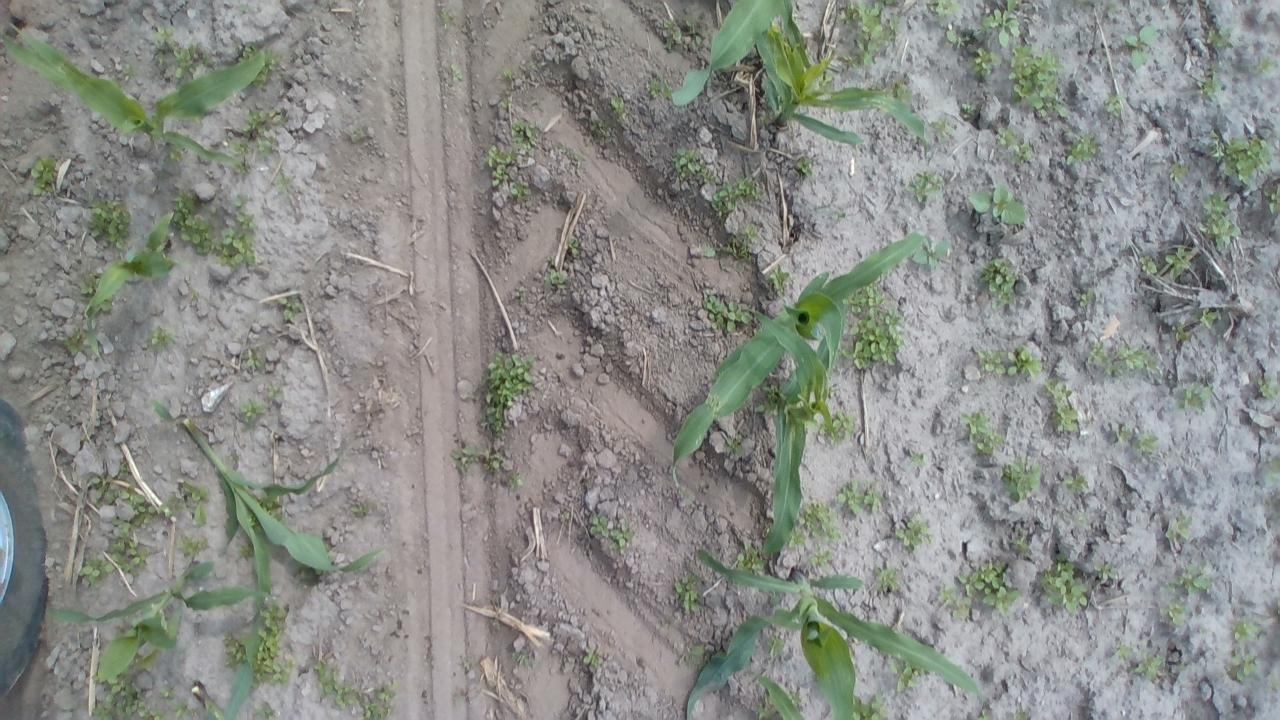Maize: (156, 396, 384, 714), (679, 224, 931, 495), (678, 555, 988, 720), (2, 30, 272, 170), (48, 558, 266, 694), (730, 6, 930, 152), (752, 312, 836, 552), (82, 204, 182, 360), (670, 0, 791, 112), (754, 673, 808, 720), (190, 677, 230, 720)
Weeds: (1008, 44, 1072, 119), (849, 284, 902, 368), (486, 351, 536, 432), (840, 3, 895, 67), (1210, 137, 1274, 186), (1040, 554, 1090, 614), (255, 606, 289, 686), (217, 200, 254, 269), (108, 520, 150, 578), (174, 194, 213, 256), (969, 184, 1027, 224), (88, 198, 131, 250), (94, 680, 150, 718), (1045, 378, 1081, 434), (703, 292, 752, 331), (962, 412, 1004, 457), (120, 480, 156, 530), (1202, 192, 1236, 244), (316, 664, 354, 709), (1001, 460, 1041, 502), (980, 257, 1016, 302), (1122, 26, 1156, 69), (1169, 562, 1214, 594), (984, 3, 1019, 44), (180, 481, 210, 526), (804, 502, 840, 537), (838, 483, 876, 516), (1002, 346, 1042, 377), (980, 584, 1020, 614), (894, 518, 932, 549), (1065, 132, 1099, 165), (87, 472, 117, 509), (364, 685, 396, 719), (972, 347, 1007, 378), (556, 141, 592, 171), (244, 110, 285, 136), (1255, 450, 1280, 490), (675, 574, 701, 612), (1117, 345, 1151, 374), (924, 1, 966, 24), (1226, 649, 1258, 679), (756, 382, 780, 422), (82, 554, 112, 585), (852, 483, 882, 514), (1178, 384, 1210, 413), (1203, 22, 1236, 50), (172, 42, 199, 76), (914, 241, 950, 266), (486, 146, 511, 182), (711, 181, 740, 212), (33, 157, 56, 196), (718, 233, 752, 259), (644, 72, 674, 100), (1164, 246, 1190, 278), (587, 112, 619, 138), (1190, 304, 1222, 330), (1248, 49, 1274, 80), (856, 694, 889, 718), (972, 48, 1001, 75), (912, 174, 938, 204), (674, 150, 704, 176), (160, 492, 182, 527), (828, 410, 852, 442), (451, 443, 475, 475), (1135, 653, 1164, 679), (766, 266, 791, 296), (1164, 157, 1188, 188), (1168, 511, 1192, 542), (738, 544, 764, 572), (432, 5, 460, 31), (893, 662, 921, 688), (506, 180, 536, 204), (1262, 182, 1280, 222), (1086, 334, 1108, 366), (664, 22, 690, 49), (738, 176, 764, 202), (1164, 598, 1188, 626), (64, 329, 92, 353), (959, 572, 984, 598), (260, 495, 284, 521), (515, 121, 538, 148), (1112, 636, 1132, 667), (256, 138, 284, 160), (243, 349, 272, 370), (224, 634, 243, 666), (588, 512, 610, 539), (148, 326, 172, 350), (580, 644, 603, 669), (512, 645, 535, 670), (994, 122, 1016, 148), (1230, 618, 1256, 640), (608, 89, 628, 117), (152, 26, 176, 49), (280, 298, 302, 323), (1136, 256, 1162, 277), (1062, 472, 1090, 491), (1102, 91, 1124, 115), (251, 702, 280, 720), (1012, 140, 1032, 166), (1256, 373, 1276, 398), (612, 523, 632, 548), (952, 595, 972, 620), (947, 27, 973, 46), (241, 398, 263, 420), (876, 566, 896, 590), (904, 448, 928, 468), (178, 538, 202, 558), (351, 499, 372, 521), (1137, 432, 1158, 454), (766, 632, 784, 657), (932, 115, 953, 136), (1198, 74, 1219, 95), (957, 101, 978, 122), (891, 80, 911, 102), (742, 222, 762, 244), (450, 59, 466, 86), (698, 240, 722, 258), (810, 548, 834, 566), (486, 452, 509, 470), (276, 172, 296, 192), (724, 437, 744, 457), (686, 643, 708, 661), (230, 138, 252, 156), (1078, 291, 1096, 313), (511, 281, 529, 303), (153, 51, 170, 74), (114, 457, 130, 481), (1097, 562, 1117, 581), (77, 272, 96, 292), (266, 380, 284, 401), (504, 472, 524, 490), (938, 586, 956, 605), (160, 683, 178, 702), (262, 51, 280, 70), (201, 50, 219, 69), (796, 156, 813, 176), (168, 146, 185, 166), (252, 72, 269, 92), (974, 706, 998, 720), (1262, 672, 1280, 690), (145, 706, 167, 720), (1172, 324, 1190, 341), (546, 271, 566, 286), (172, 703, 192, 718), (238, 540, 252, 561), (566, 234, 580, 255), (496, 94, 512, 112), (1007, 707, 1029, 720), (461, 657, 476, 676), (1120, 423, 1134, 442), (116, 60, 132, 76), (189, 289, 204, 306), (240, 44, 258, 58), (832, 207, 848, 222), (1102, 364, 1118, 378), (236, 160, 250, 174), (789, 532, 802, 546), (547, 251, 556, 270), (490, 619, 502, 633), (501, 68, 514, 80), (354, 125, 364, 136), (1176, 662, 1188, 671), (1276, 598, 1280, 622)
